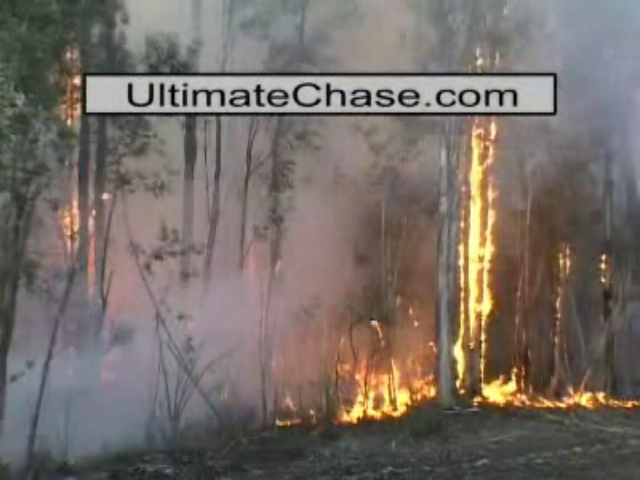fire: (454, 115, 520, 410), (344, 362, 420, 421)
